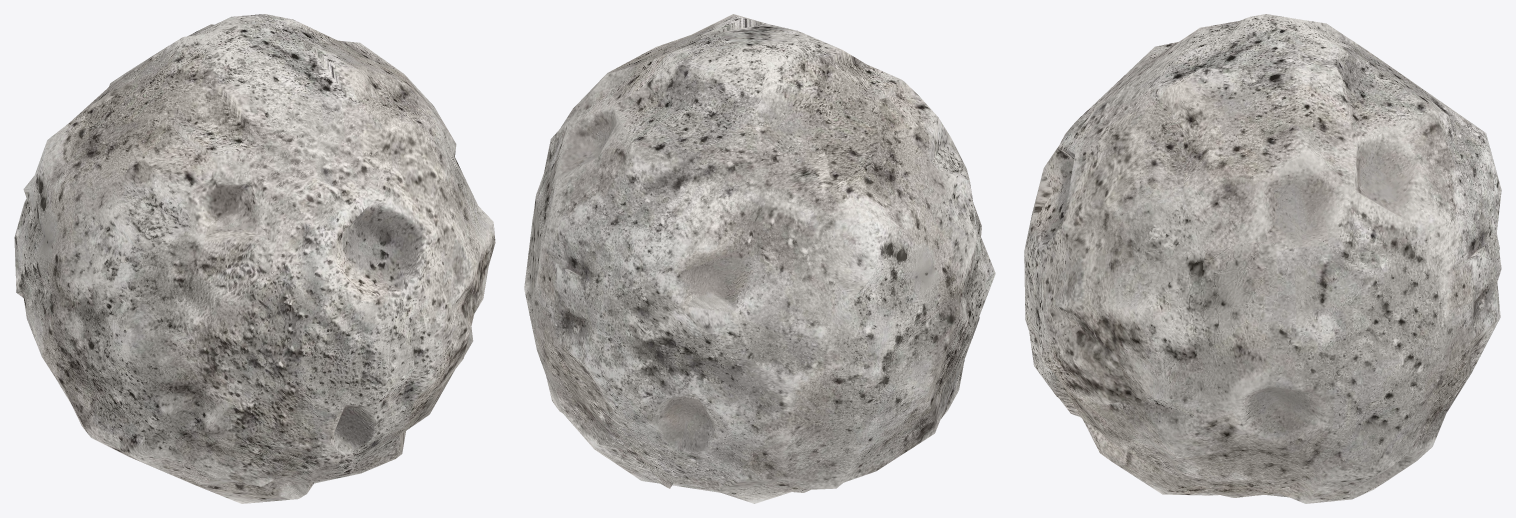
Rendered from asteroid_1.glb.
The picture shows the model from 3 angles, left to right: view 1: azimuth 30°, elevation 25°; view 2: azimuth 150°, elevation 25°; view 3: azimuth 270°, elevation 25°; orthographic projection. The views are drawn at different scales.
Bounding box in the file's own units: 0.9609 × 1 × 0.9609.
1 material, 1 textured.
